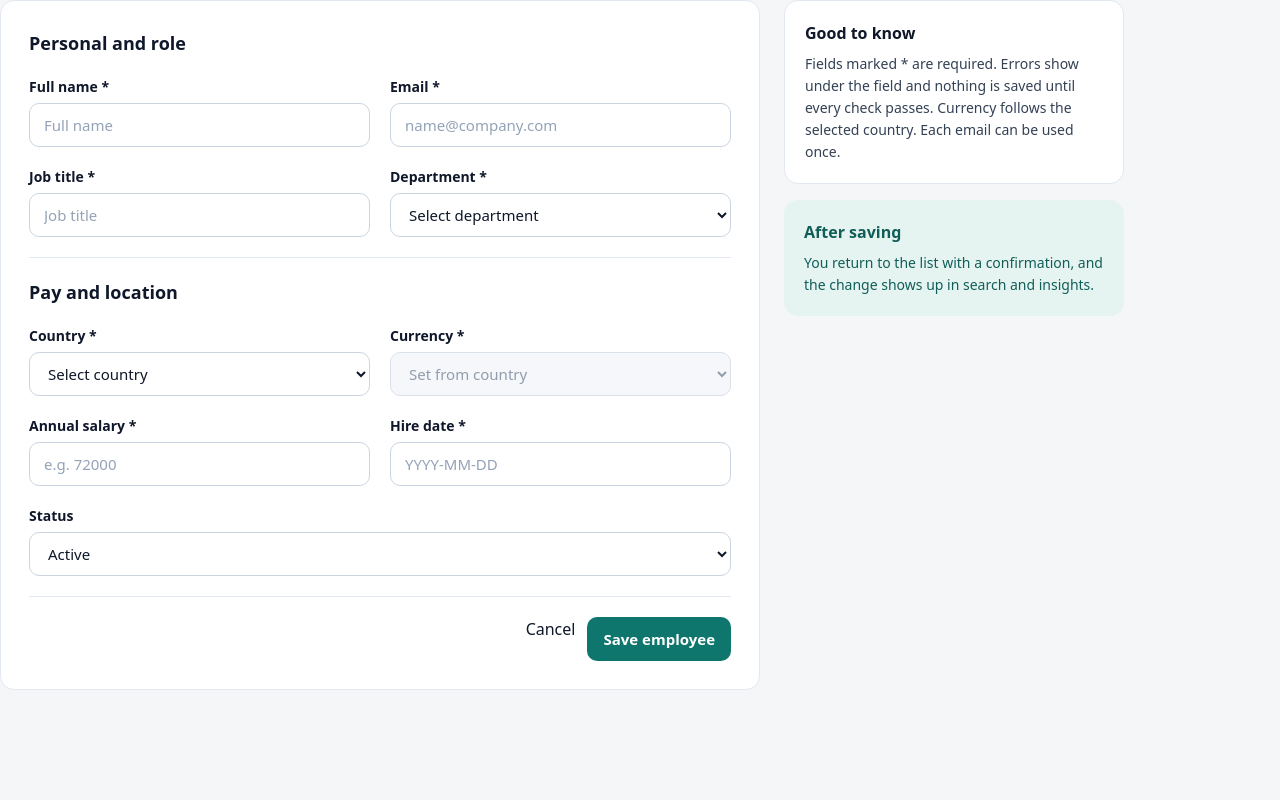
Test: EmployeeForm › shows an error under every missing required field and does not submit
Click the button "Save employee": (659, 639) [588, 617, 731, 661]
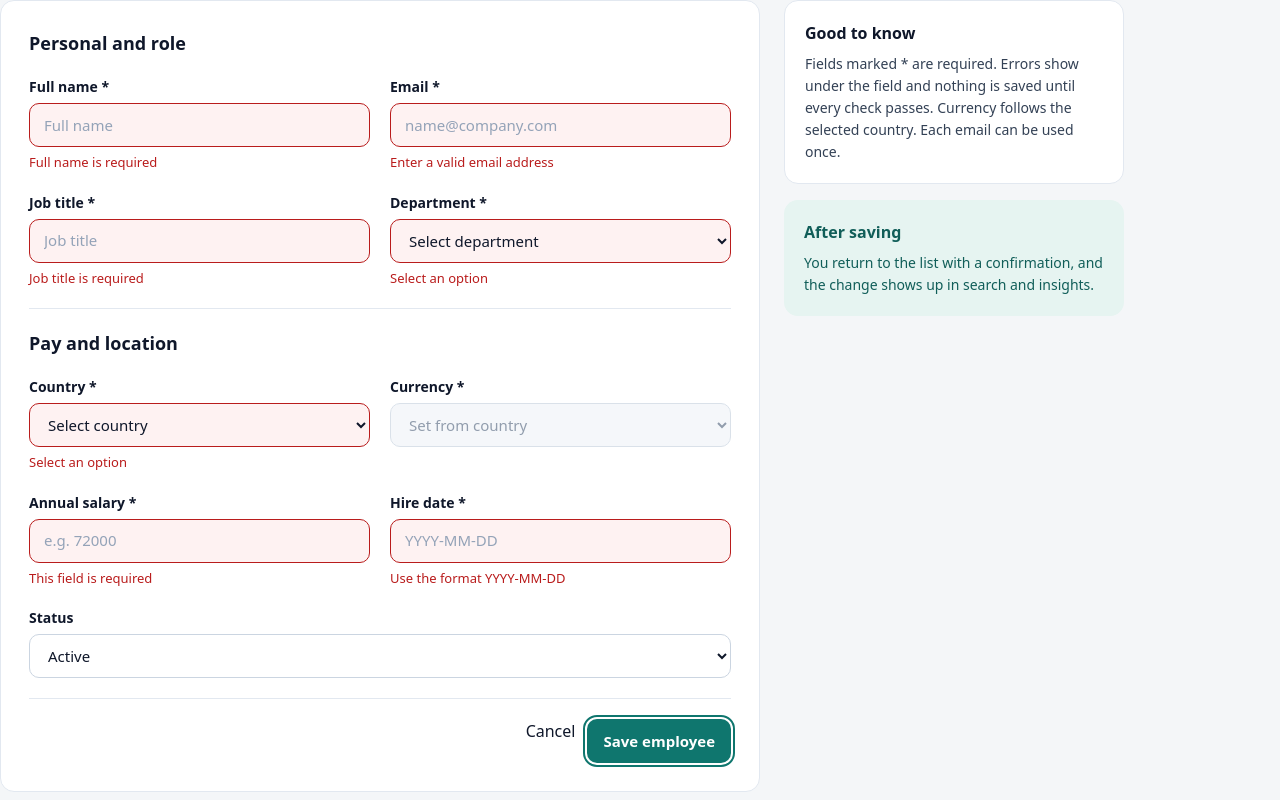
Check: the text "Full name is required" is shown, box [29, 153, 157, 171]
Check: the text "Select an option" is shown 2 times, box [390, 268, 488, 286]; [29, 453, 127, 471]
